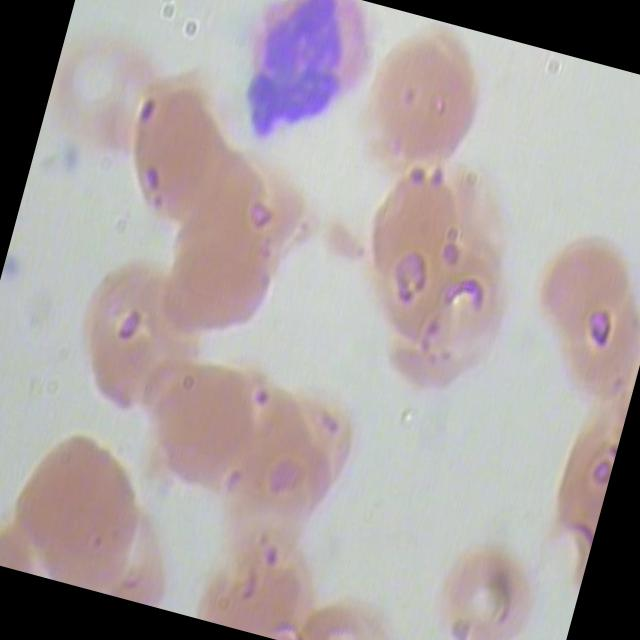RBC: (51, 243, 214, 436), (342, 14, 502, 188), (102, 61, 248, 236), (0, 425, 151, 587), (505, 208, 640, 383), (150, 202, 286, 358), (133, 348, 269, 504), (403, 511, 563, 640)
WBC: (217, 0, 388, 165)
